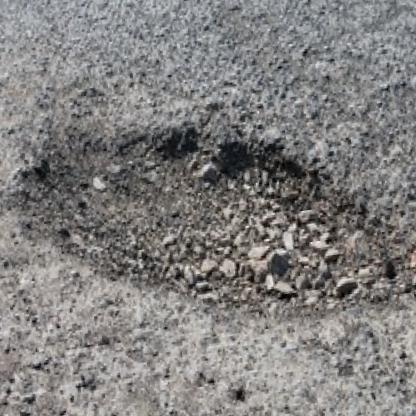pothole: (13, 93, 385, 347)
